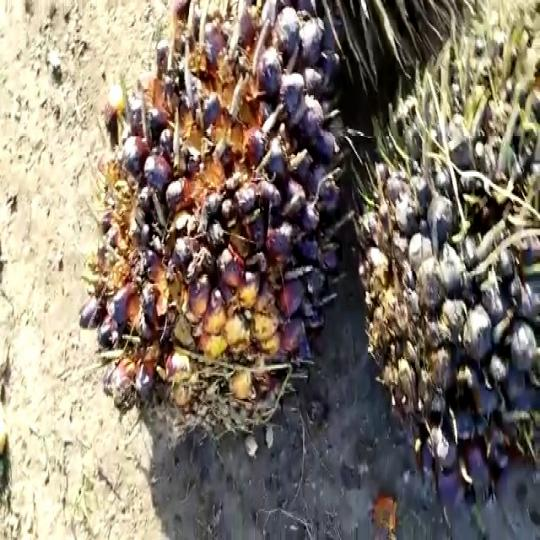masak: (80, 0, 350, 478), (365, 10, 540, 484)
